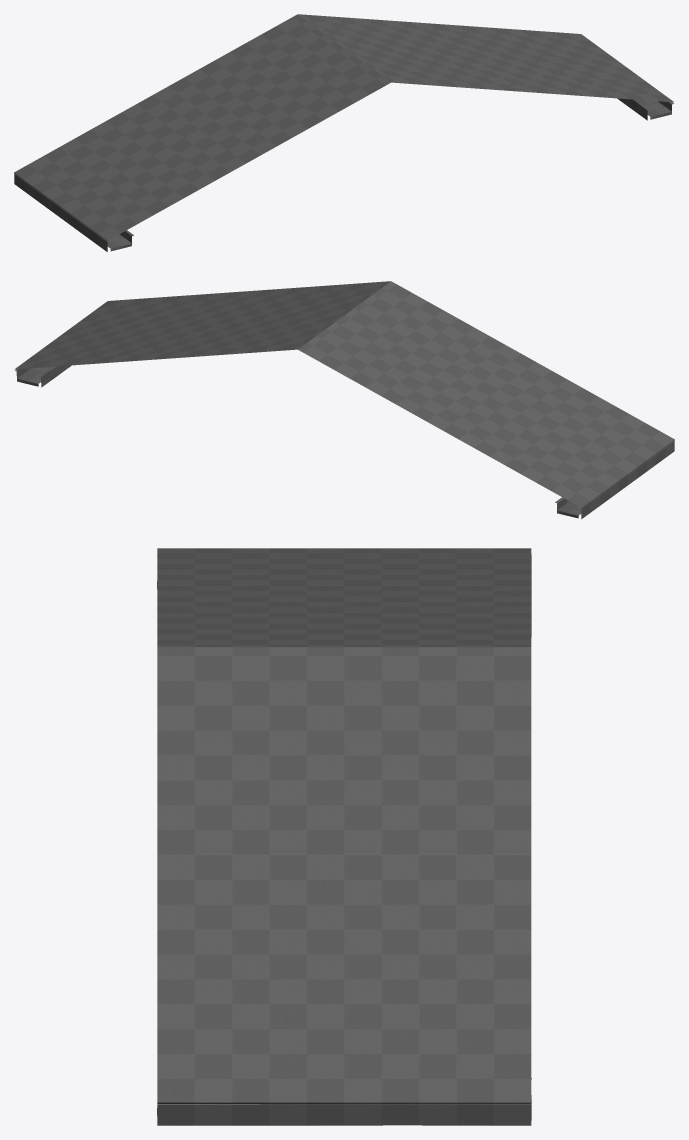
File: SM_House_Roof_B_Mid.glb
3 renders of one model, top to bottom at view 1: azimuth 30°, elevation 25°; view 2: azimuth 150°, elevation 25°; view 3: azimuth 270°, elevation 25°, orthographic. The views are drawn at different scales.
Parts seen in each view (by area): view 1: SM_House_Roof_B_Mid; view 2: SM_House_Roof_B_Mid; view 3: SM_House_Roof_B_Mid.
Part boxes in pixels (x1,y1,x2,y2): SM_House_Roof_B_Mid: (14,14,673,251); SM_House_Roof_B_Mid: (14,281,674,519); SM_House_Roof_B_Mid: (157,548,531,1125).
Bounding box in the file's own units: 1051 × 179 × 301.
1 material, 1 textured.
